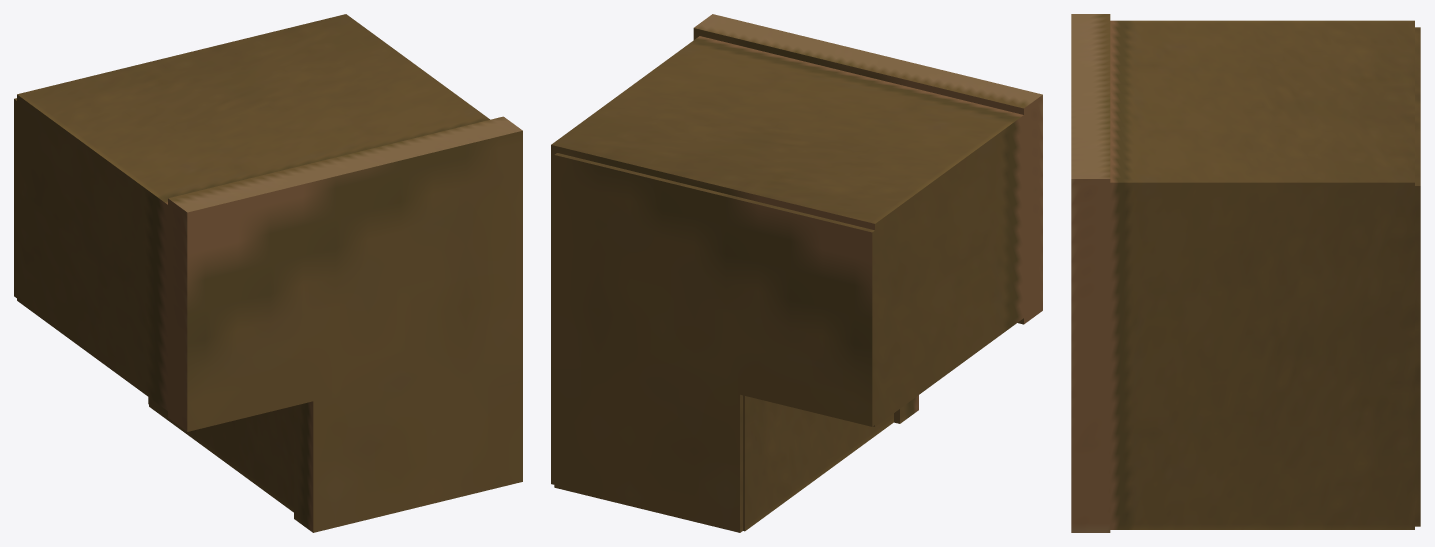
Rendered from pz_counter_birchwood_corner.obj.
3 views of the same model, side by side, from view 1: azimuth 30°, elevation 25°; view 2: azimuth 150°, elevation 25°; view 3: azimuth 270°, elevation 25° (orthographic). The views are drawn at different scales.
Size of the model in its own units: 1 by 1 by 0.895.
Materials: 1 (1 with a texture image).
